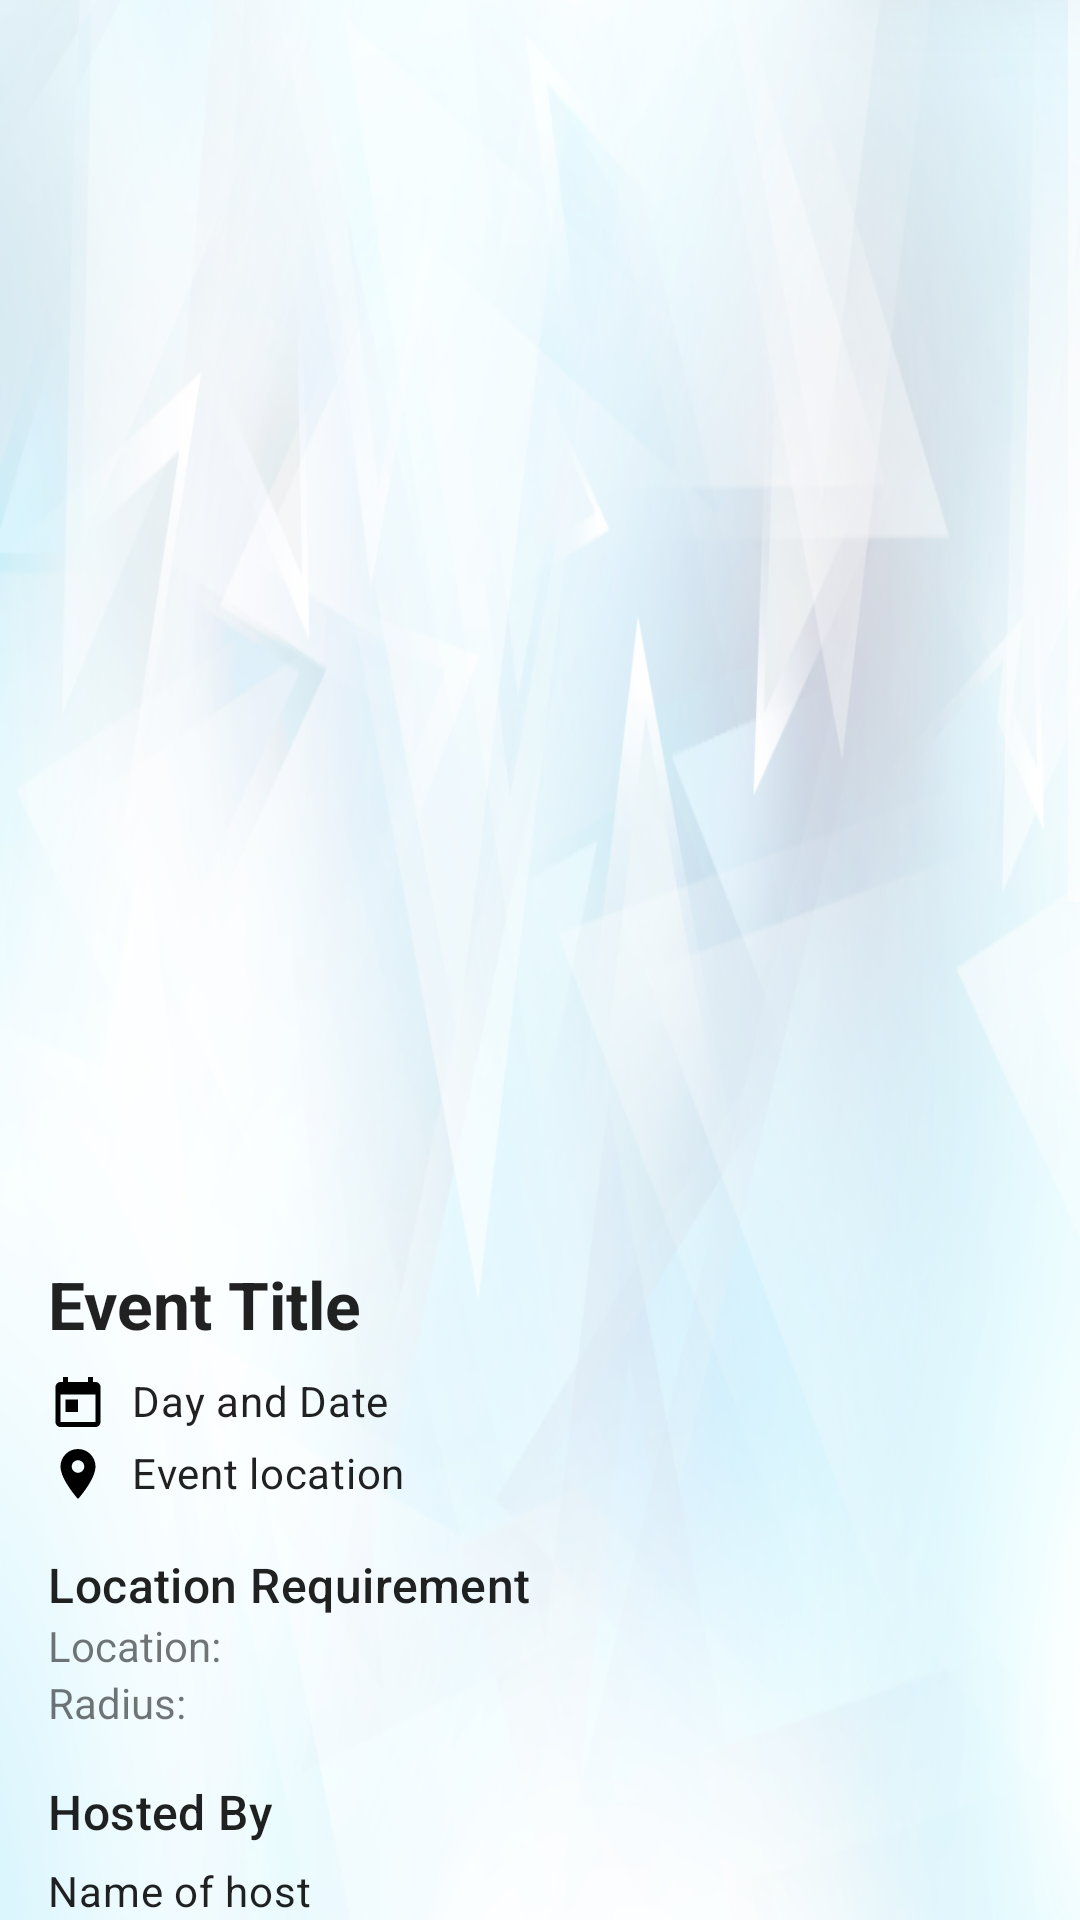

Point at icon controls on the screen. Image size 1080w x 1920h, points as point (x, y).
calendar: point (78, 1402)
